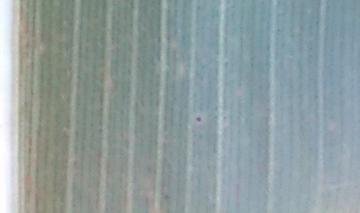tarspot: (194, 114, 203, 124), (163, 193, 171, 202), (194, 3, 202, 11), (221, 114, 227, 124), (275, 25, 281, 34)
